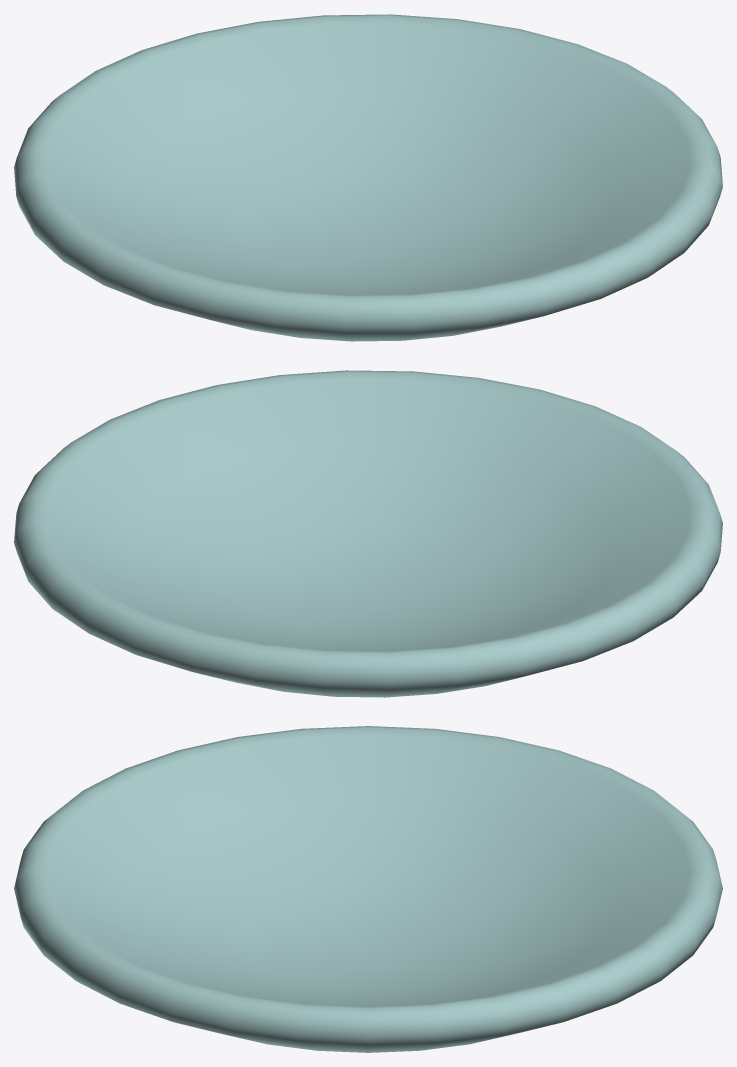
File: LastLuna_Model_Station_Watch_Glass.fbx
3 views of the same model, one above another, from view 1: azimuth 30°, elevation 25°; view 2: azimuth 150°, elevation 25°; view 3: azimuth 270°, elevation 25° (orthographic).
Parts seen in each view (by area): view 1: Watch_Glass001; view 2: Watch_Glass001; view 3: Watch_Glass001.
Boxes of the visible parts, box(x1,y1,x2,y2) form: Watch_Glass001: box(14, 14, 722, 341); Watch_Glass001: box(14, 370, 722, 697); Watch_Glass001: box(14, 726, 722, 1052).
Bounding box in the file's own units: 80 × 15.03 × 80.
